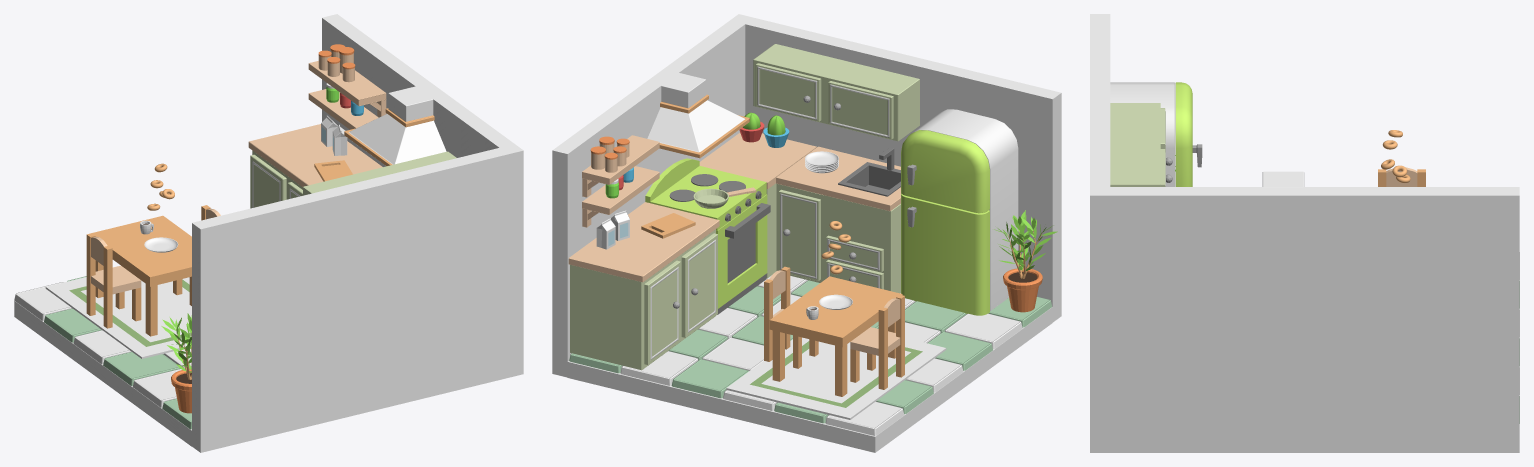
The model's file is Kitchen2.glb.
3 renders of one model, left to right at view 1: azimuth 30°, elevation 25°; view 2: azimuth 150°, elevation 25°; view 3: azimuth 270°, elevation 25°, orthographic. The views are drawn at different scales.
Parts seen in each view (by area): view 1: Wall, Table, Cube057, Cube063, Icosphere_3, Cube001, Floor, Cube001_1, Cube061_1, Icosphere_1, Hang_shelf001, Icosphere005_1 (+8 smaller); view 2: Wall, Cube018, Icosphere_1, Icosphere005_1, Cube001_1, Cube041, Cube001, Floor, Cube057, Cube018_1, Table, Cube053 (+23 smaller); view 3: Wall, Icosphere005_1, Cube018_1, Cube018, Cube063.
Boxes of the visible parts, <box> form: Wall: <box>192,14,523,452</box>; Table: <box>92,215,191,336</box>; Cube057: <box>45,277,191,358</box>; Cube063: <box>349,86,446,164</box>; Icosphere_3: <box>248,124,382,186</box>; Cube001: <box>14,282,191,407</box>; Floor: <box>14,301,191,446</box>; Cube001_1: <box>44,276,191,429</box>; Cube061_1: <box>86,233,141,328</box>; Icosphere_1: <box>250,150,302,208</box>; Hang_shelf001: <box>308,61,386,117</box>; Icosphere005_1: <box>303,151,456,195</box>; Wall: <box>552,14,1061,377</box>; Cube018: <box>901,130,989,315</box>; Icosphere_1: <box>570,229,717,370</box>; Icosphere005_1: <box>753,44,919,141</box>; Cube001_1: <box>569,280,1052,423</box>; Cube041: <box>776,183,900,293</box>; Cube001: <box>620,275,1022,435</box>; Floor: <box>567,307,1052,452</box>; Cube057: <box>726,337,946,419</box>; Cube018_1: <box>912,109,1018,311</box>; Table: <box>769,276,902,396</box>; Cube053: <box>645,158,767,308</box>; Wall: <box>1090,14,1519,452</box>; Icosphere005_1: <box>1110,103,1165,186</box>; Cube018_1: <box>1110,82,1174,186</box>; Cube018: <box>1175,82,1192,186</box>; Cube063: <box>1262,171,1304,187</box>.
Size of the model in its own units: 7.88 by 5.01 by 7.57.
